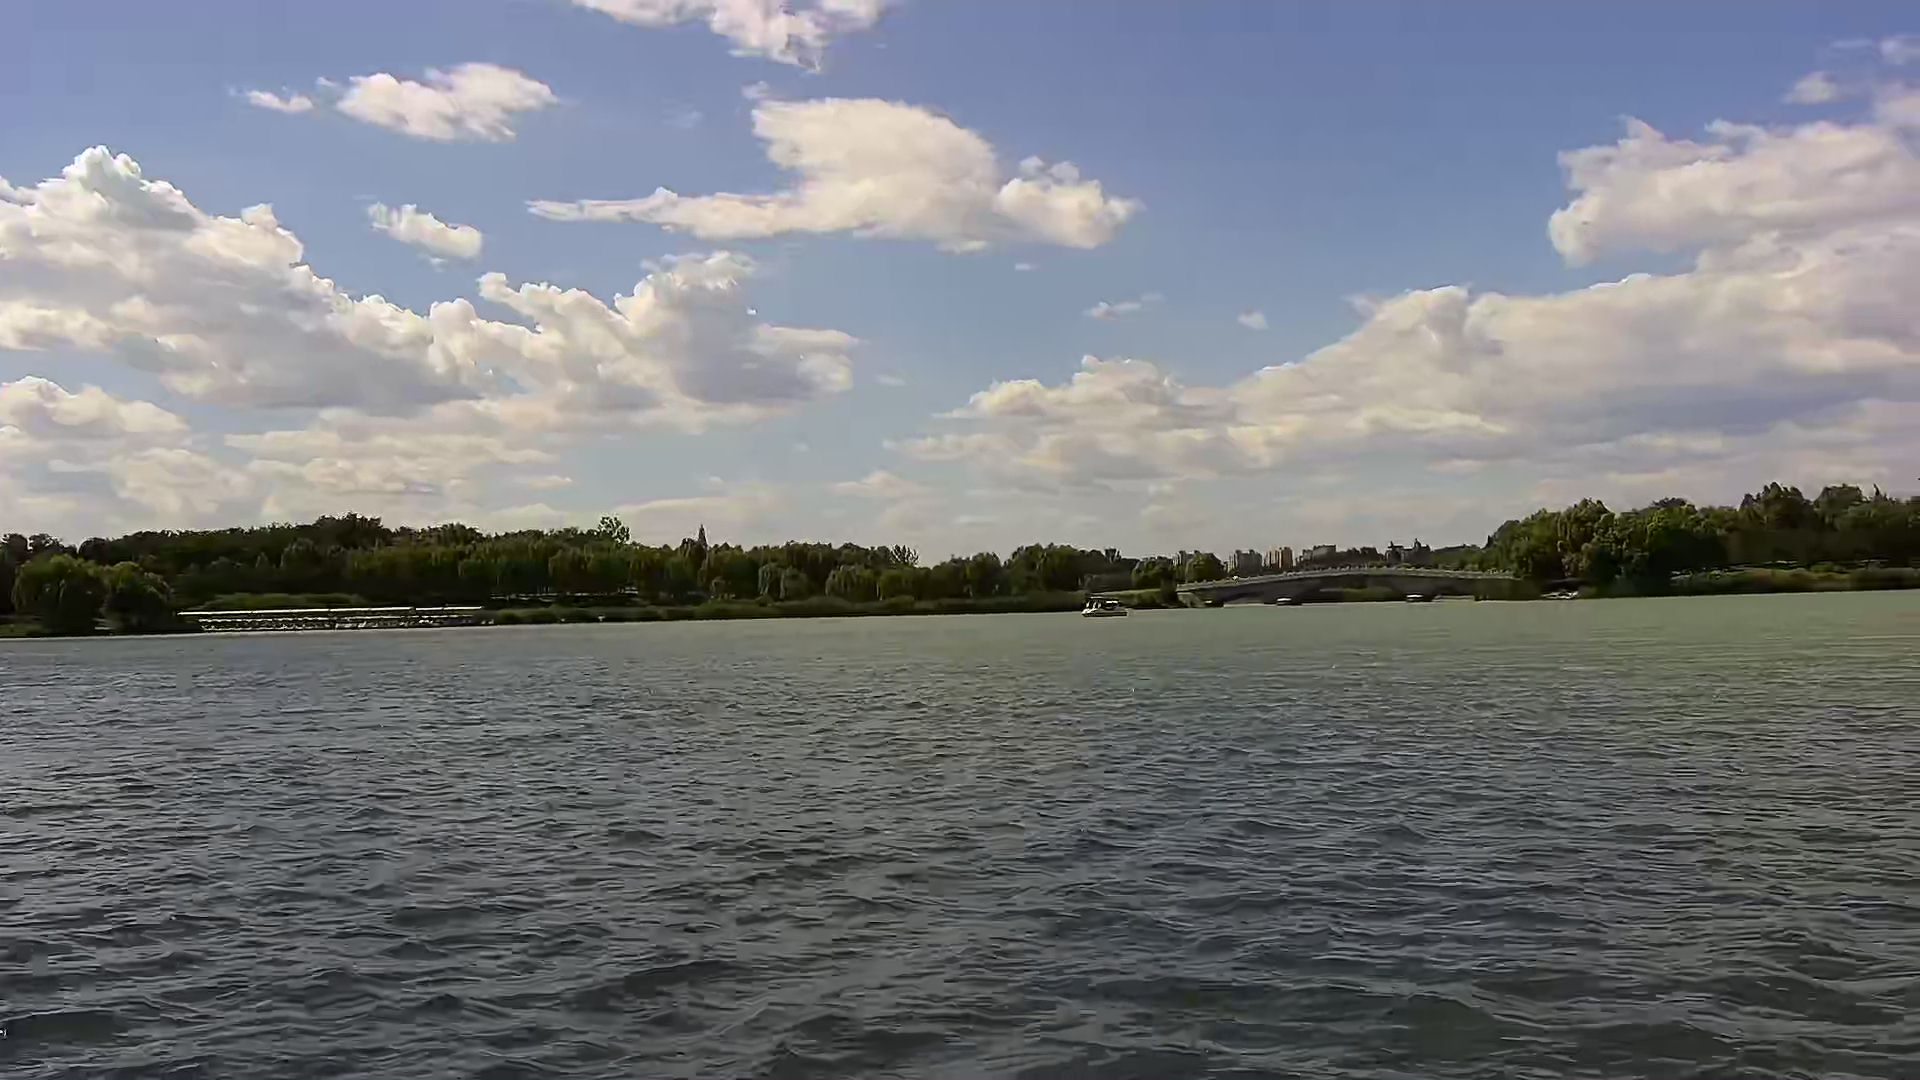boat: (1081, 592, 1129, 620)
bridge: (1197, 568, 1519, 607), (196, 611, 483, 630)
